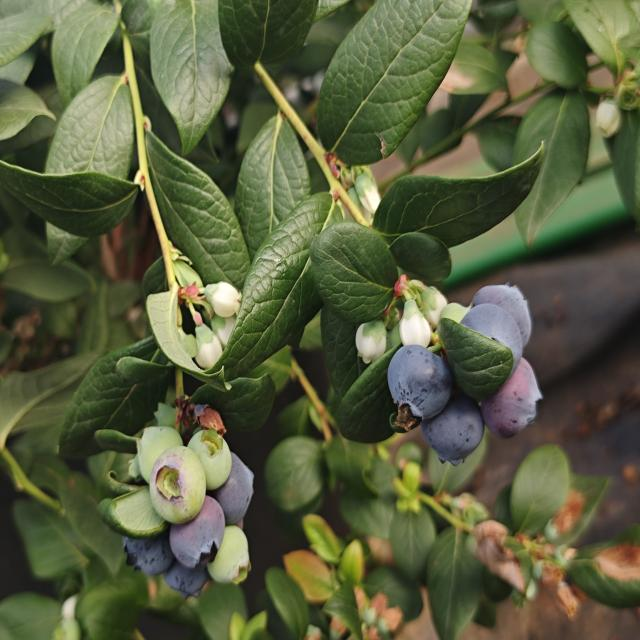ripe: (465, 269, 535, 372), (385, 342, 453, 422), (153, 503, 230, 567), (482, 355, 545, 431), (411, 404, 485, 466), (128, 529, 174, 580), (215, 453, 253, 514)
